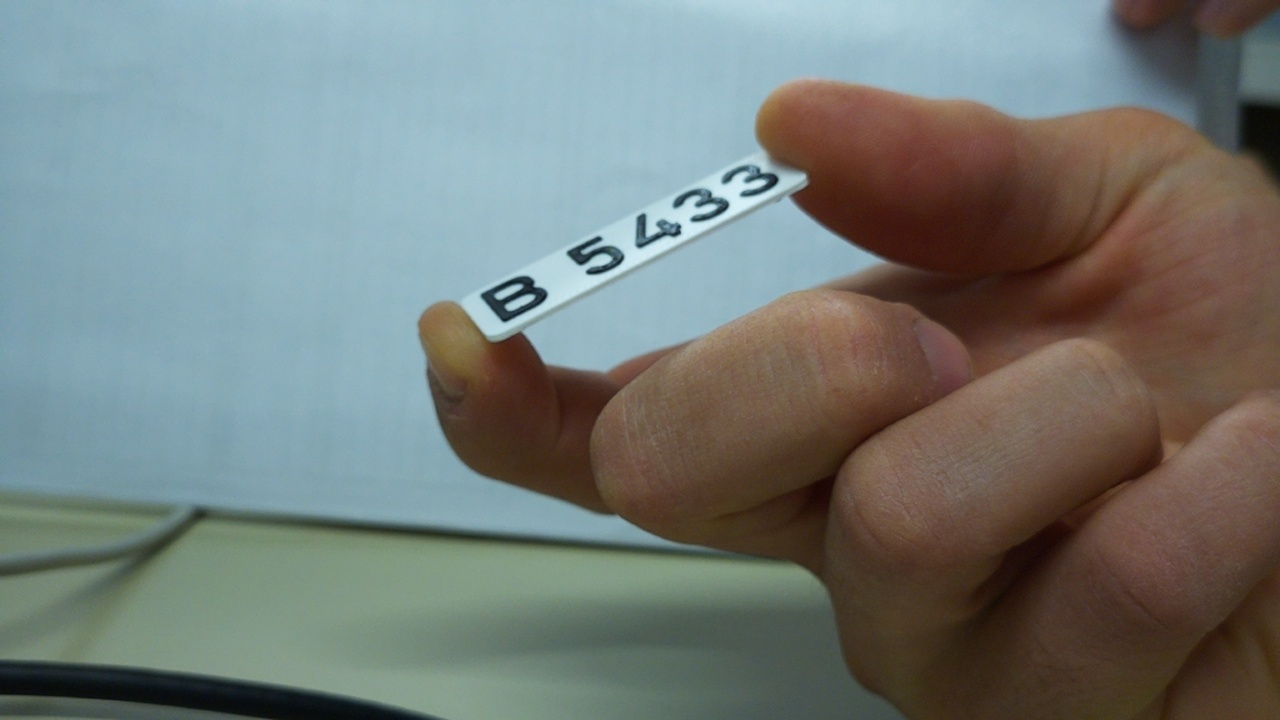license_plate: (456, 142, 814, 348)
